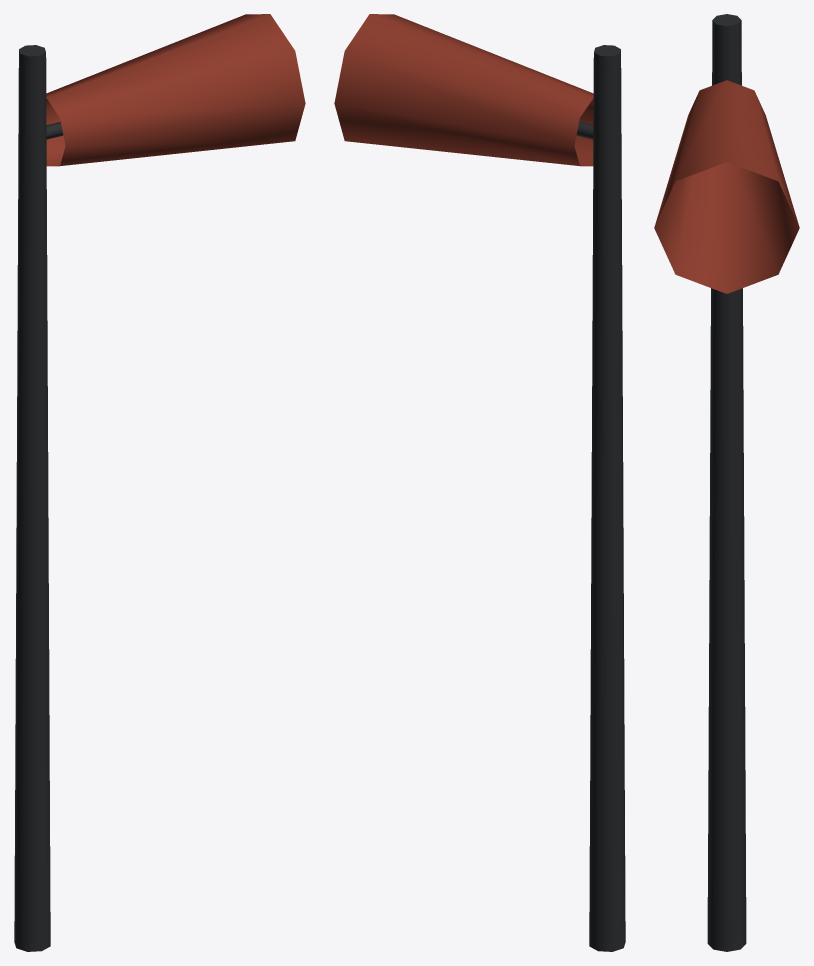
Rendered from range_flag.glb.
3 renders of one model, left to right at view 1: azimuth 30°, elevation 25°; view 2: azimuth 150°, elevation 25°; view 3: azimuth 270°, elevation 25°, orthographic. The views are drawn at different scales.
Parts seen in each view (by area): view 1: RangeFlag; view 2: RangeFlag; view 3: RangeFlag.
Part boxes in pixels (<box>): RangeFlag: <box>14,14,305,951</box>; RangeFlag: <box>334,14,625,951</box>; RangeFlag: <box>654,14,799,951</box>.
Bounding box in the file's own units: 1.25 × 4.2 × 0.6.
